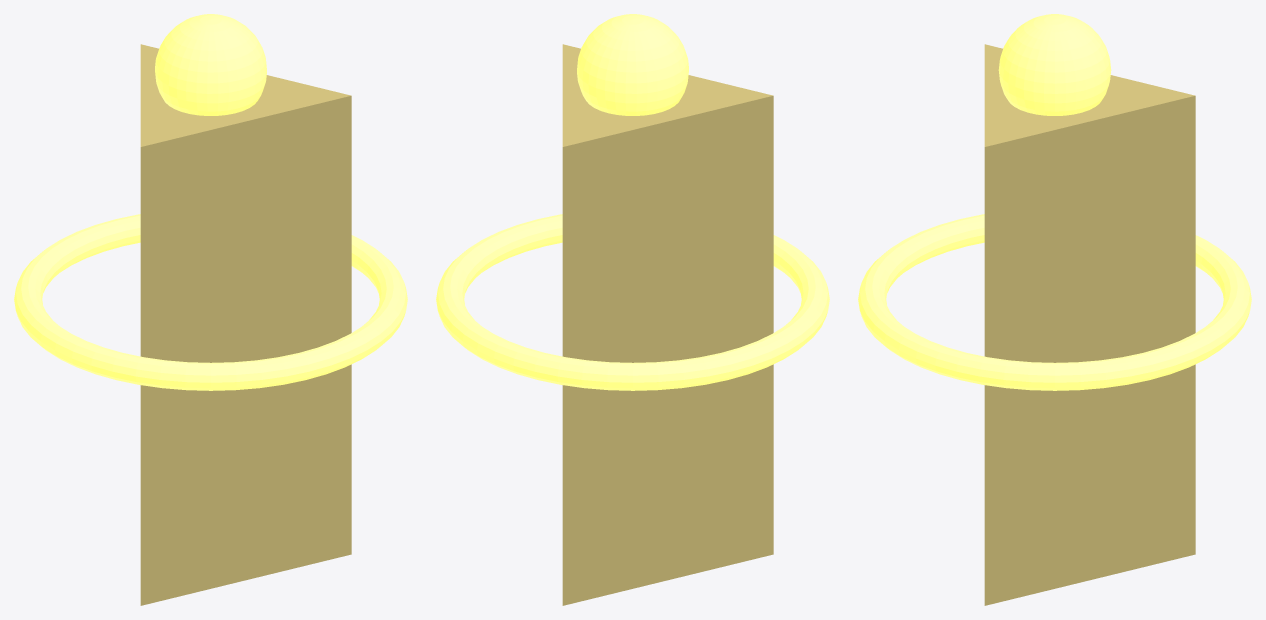
File: MonolithOfTheOrigin.glb
3 views of the same model, side by side, from view 1: azimuth 30°, elevation 25°; view 2: azimuth 150°, elevation 25°; view 3: azimuth 270°, elevation 25° (orthographic).
Parts seen in each view (by area): view 1: MonolithOfTheOrigin; view 2: MonolithOfTheOrigin; view 3: MonolithOfTheOrigin.
Part boxes in pixels (x1=…): MonolithOfTheOrigin: x1=14, y1=14, x2=407, y2=605; MonolithOfTheOrigin: x1=436, y1=14, x2=829, y2=605; MonolithOfTheOrigin: x1=858, y1=14, x2=1251, y2=605.
Bounding box in the file's own units: 2.8 × 4.2 × 2.8.
